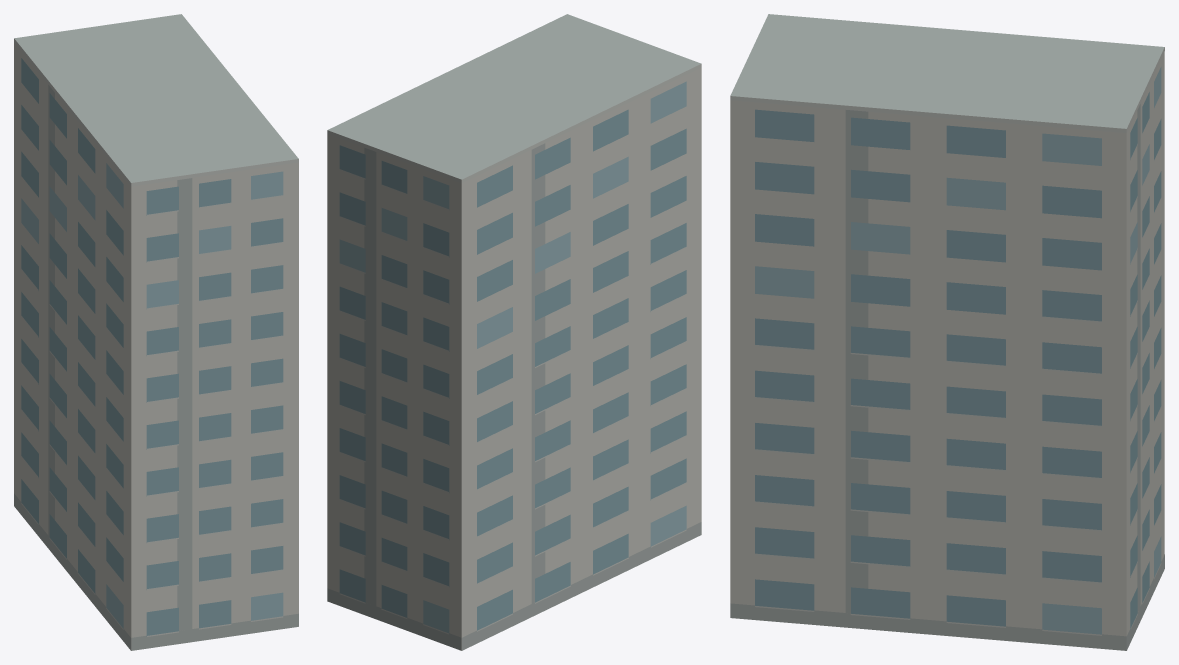
The model's file is residential-1355e473-8f72-4de5-829e-2331d542c1e7.glb.
3 renders of one model, left to right at view 1: azimuth 30°, elevation 25°; view 2: azimuth 150°, elevation 25°; view 3: azimuth 270°, elevation 25°, orthographic. The views are drawn at different scales.
Parts seen in each view (by area): view 1: residential-1355e473-8f72-4de5-829e-2331d542c1e7.tmp; view 2: residential-1355e473-8f72-4de5-829e-2331d542c1e7.tmp; view 3: residential-1355e473-8f72-4de5-829e-2331d542c1e7.tmp.
Boxes of the visible parts, x1=… form: residential-1355e473-8f72-4de5-829e-2331d542c1e7.tmp: x1=14, y1=14, x2=298, y2=650; residential-1355e473-8f72-4de5-829e-2331d542c1e7.tmp: x1=327, y1=14, x2=701, y2=650; residential-1355e473-8f72-4de5-829e-2331d542c1e7.tmp: x1=730, y1=14, x2=1164, y2=650.
Size of the model in its own units: 14.17 by 30 by 22.64.
